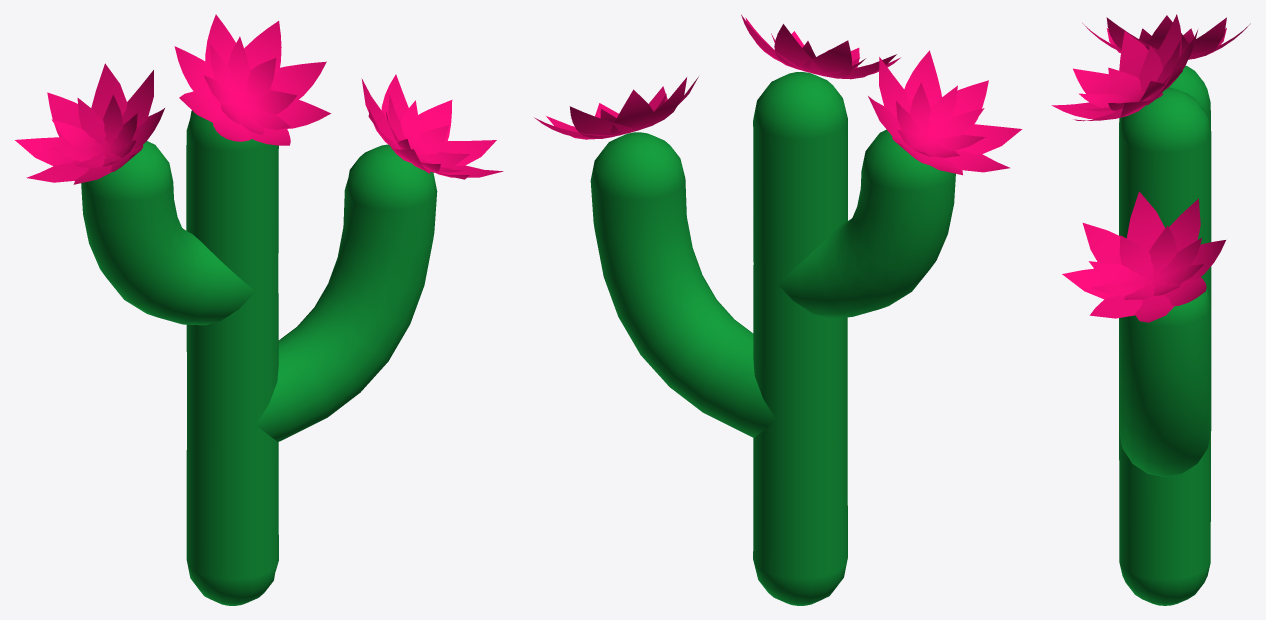
File: plant11.fbx
3 views of the same model, side by side, from view 1: azimuth 30°, elevation 25°; view 2: azimuth 150°, elevation 25°; view 3: azimuth 270°, elevation 25° (orthographic). The views are drawn at different scales.
Visible parts, largest first — view 1: Leaves, Flower_2; view 2: Leaves, Flower_2; view 3: Leaves, Flower_2.
Boxes of the visible parts, box(x1,y1,x2,y2) form: Leaves: box(81, 110, 437, 605); Flower_2: box(15, 14, 503, 184); Leaves: box(590, 72, 955, 605); Flower_2: box(534, 14, 1022, 175); Leaves: box(1119, 65, 1211, 605); Flower_2: box(1051, 14, 1250, 322).
Bounding box in the file's own units: 1.82 × 2.17 × 0.6887.
